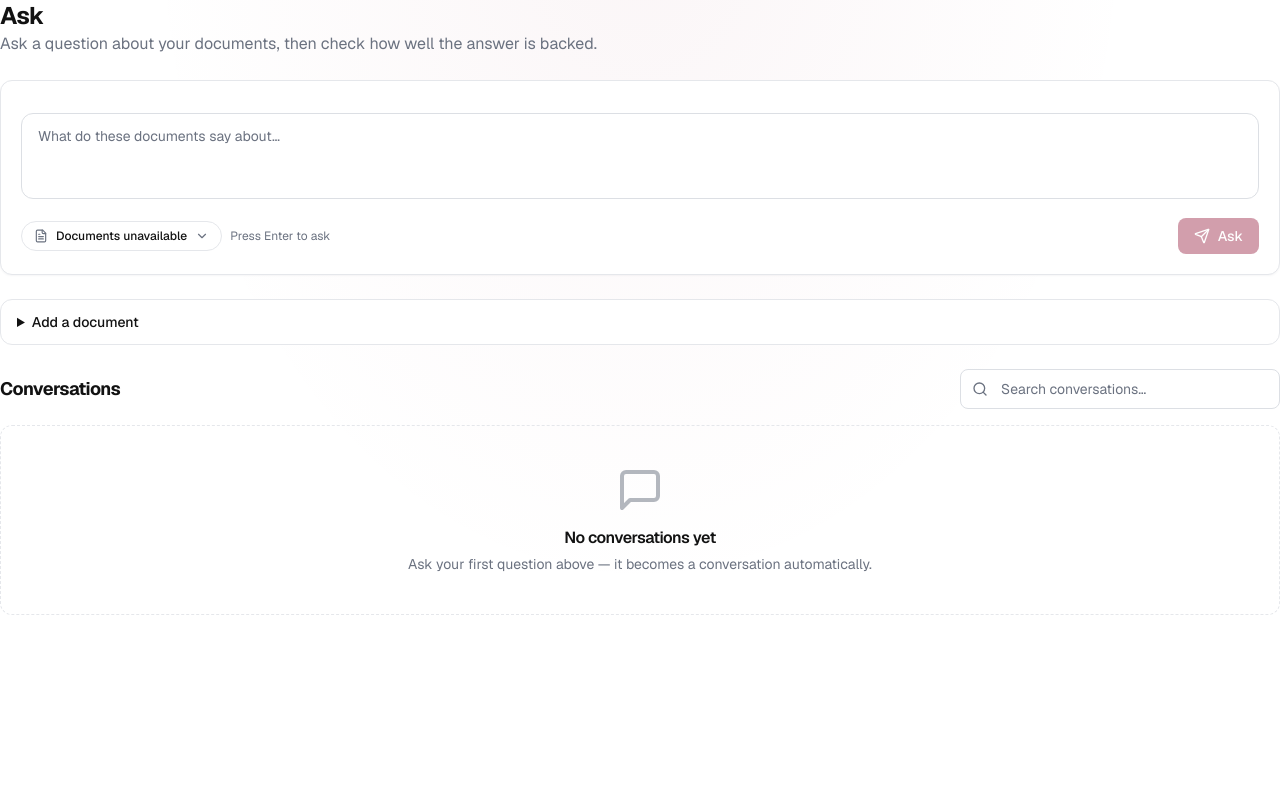
Test: WorkspacePage composer › restores the document rows when a failed request is retried
The image size is (1280, 800).
Click the button "Documents unavailable": (122, 236) [21,221,222,251]
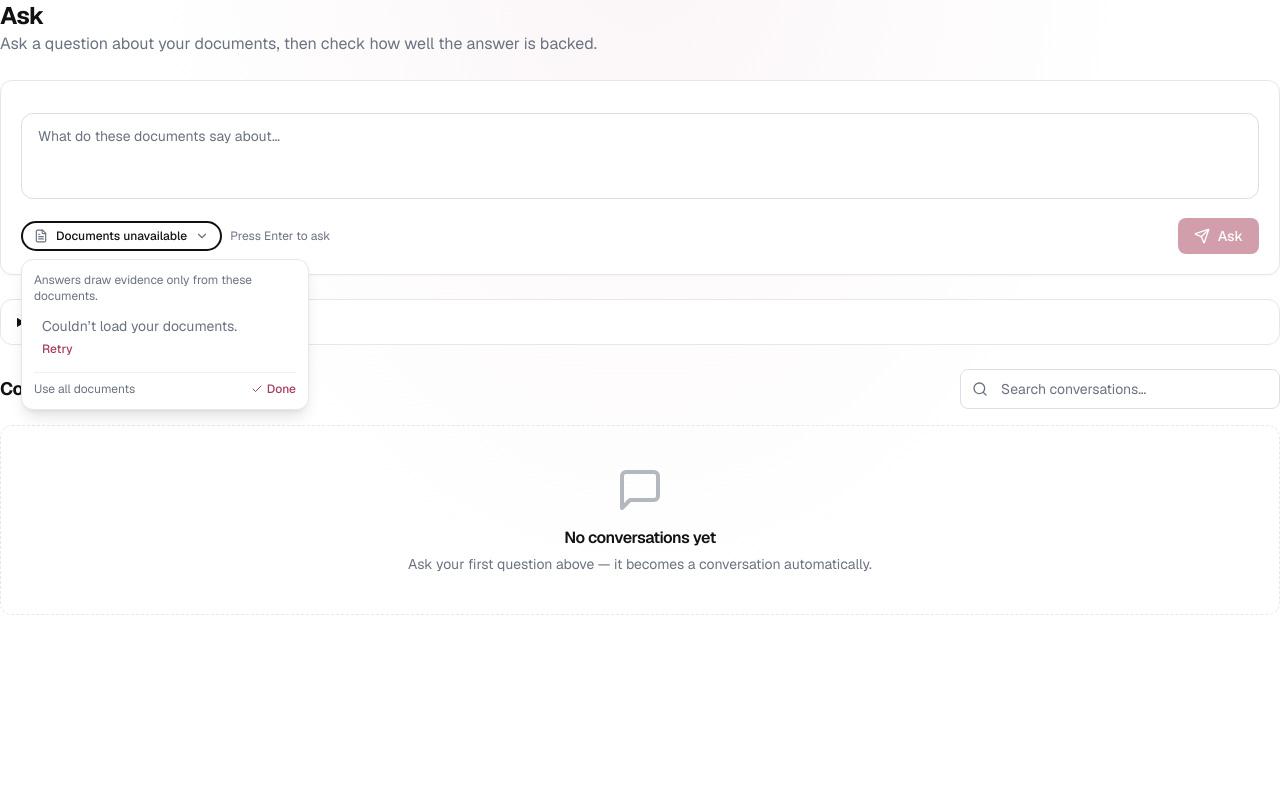
Expected: the text "Couldn’t load your documents." is shown, [42,317,237,335]
Click the button "Retry": (57, 349) [42,341,73,357]
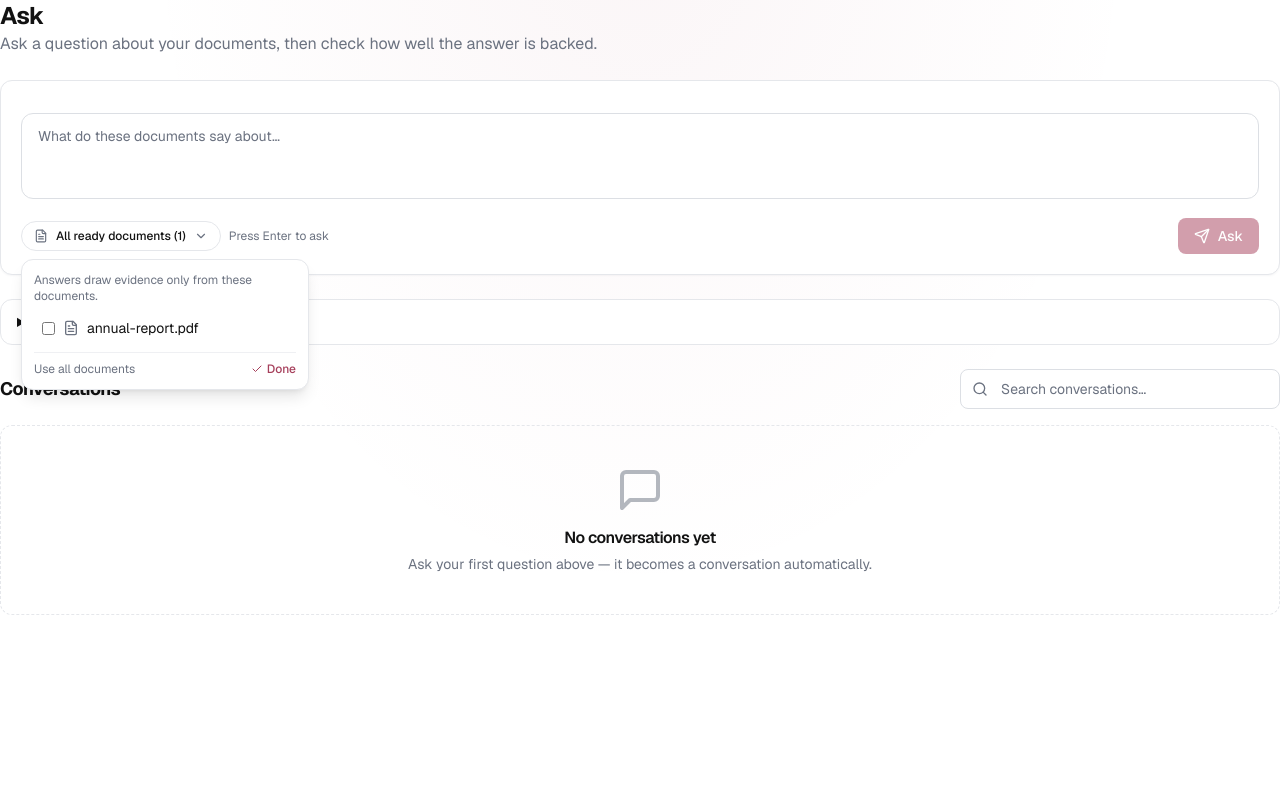
Expected: the button "All ready documents (1)" is shown, [21,221,221,251]
Expected: the checkbox labelled "annual-report.pdf" is shown, [42,322,55,334]
Expected: the text "load your documents" is gone
